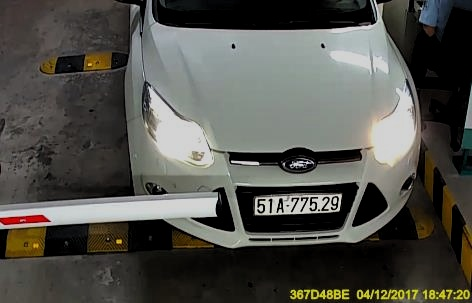plate: (248, 189, 341, 216)
